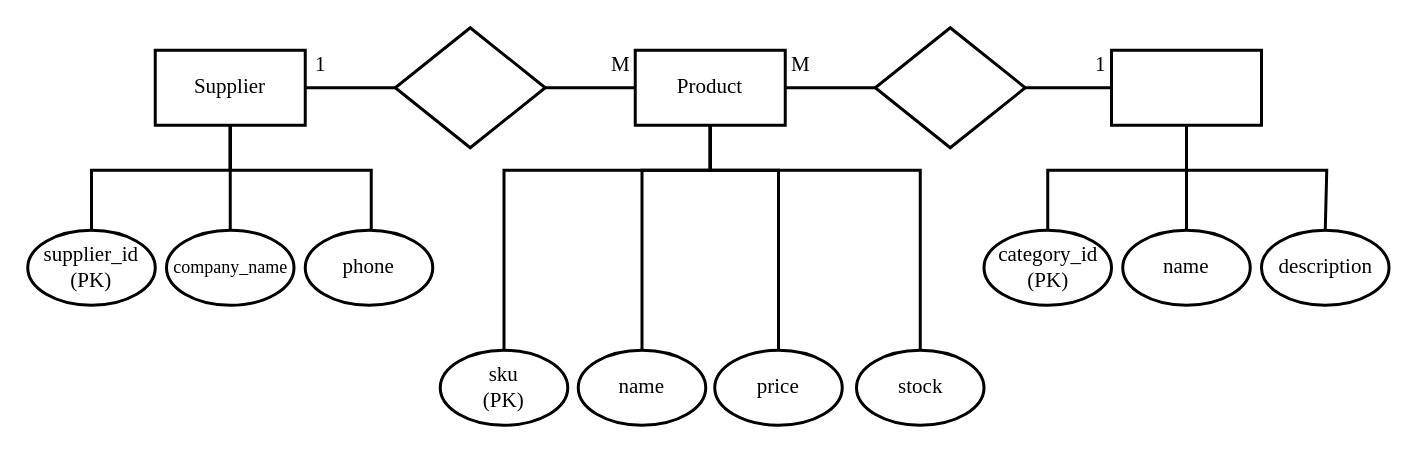
The diagram is 1416 pixels wide and 452 high, and some of its shapes have lost their labels. The box of each missing label's shape, as (x1, y1, x2, y2) in pixels:
Belongs To: (873, 26, 1026, 148)
Category: (1109, 48, 1262, 126)
Supplies: (393, 26, 546, 148)
